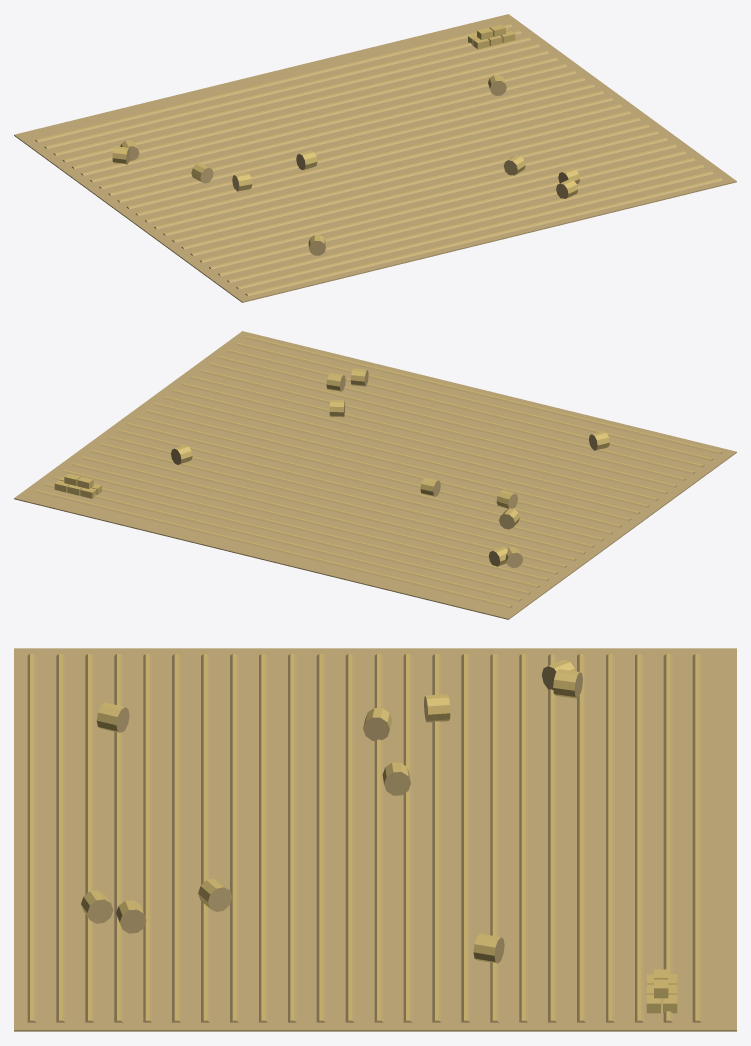
The model's file is Kir_alan_saman_2_Hafif.fbx.
3 views of the same model, one above another, from view 1: azimuth 30°, elevation 25°; view 2: azimuth 150°, elevation 25°; view 3: azimuth 270°, elevation 25° (orthographic). The views are drawn at different scales.
Parts seen in each view (by area): view 1: Kir_alan_saman_2_Hafif; view 2: Kir_alan_saman_2_Hafif; view 3: Kir_alan_saman_2_Hafif.
Part boxes in pixels (x1,y1,x2,y2): Kir_alan_saman_2_Hafif: (14, 14, 736, 302); Kir_alan_saman_2_Hafif: (14, 331, 736, 619); Kir_alan_saman_2_Hafif: (14, 648, 736, 1031).
Size of the model in its own units: 50 by 1.56 by 40.
